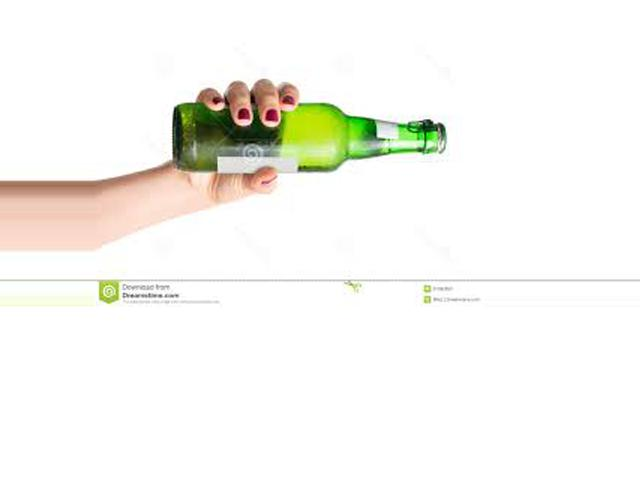beer: (171, 103, 447, 175)
